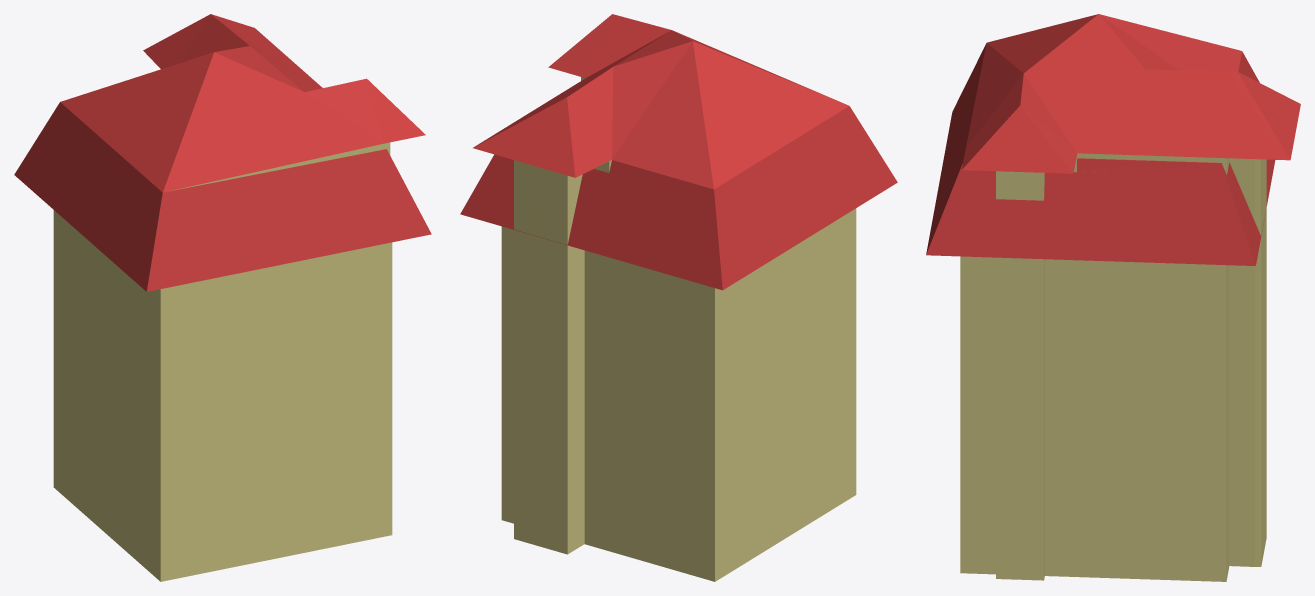
The picture shows the model from 3 angles, left to right: view 1: azimuth 30°, elevation 25°; view 2: azimuth 150°, elevation 25°; view 3: azimuth 270°, elevation 25°; orthographic projection. The views are drawn at different scales.
Parts seen in each view (by area): view 1: group_5, group_3, group_7, group_4, group_8, group_9; view 2: group_5, group_7, group_3, group_4, group_9, group_8; view 3: group_5, group_7, group_3, group_4, group_9, group_8.
Part boxes in pixels (x1,y1,x2,y2): group_5: (53,210,392,581); group_3: (14,102,431,291); group_7: (60,14,425,192); group_4: (16,114,430,290); group_8: (143,21,279,69); group_9: (168,142,390,191); group_5: (501,208,856,581); group_7: (475,14,848,189); group_3: (460,106,897,289); group_4: (464,120,896,290); group_9: (514,77,611,244); group_8: (473,29,608,177); group_5: (960,172,1266,581); group_7: (962,14,1299,173); group_3: (926,43,1266,265); group_4: (927,56,1275,265); group_9: (996,153,1266,235); group_8: (963,88,1300,173).
Size of the model in its own units: 11.41 by 11.73 by 17.24.
